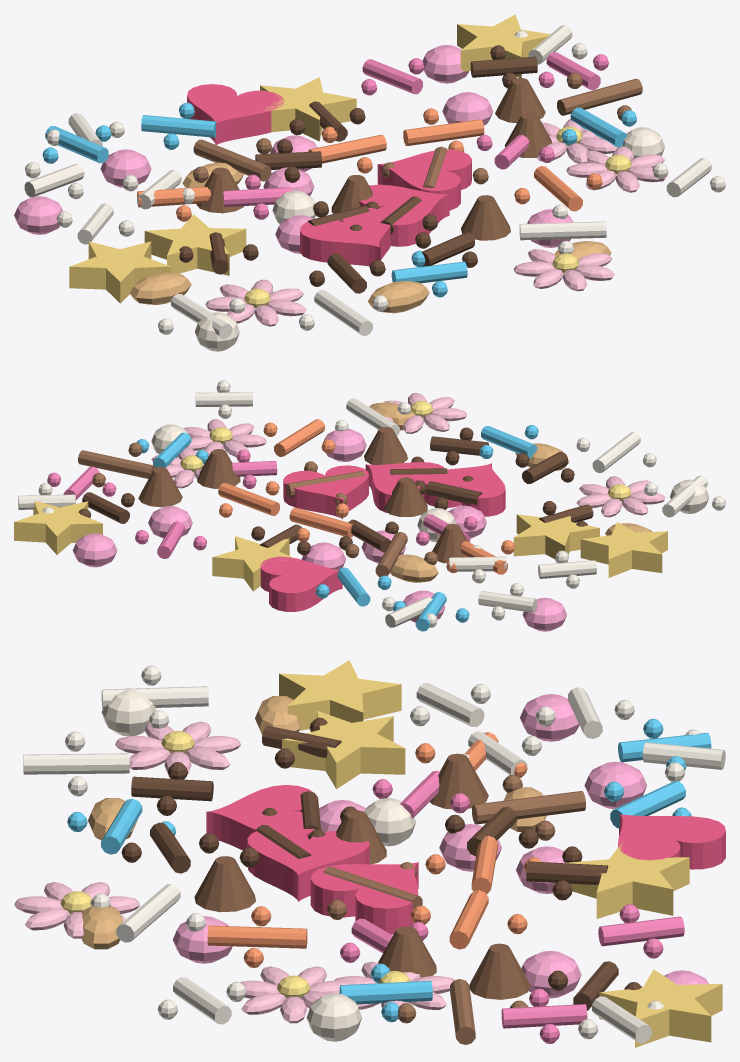
Rendered from toppings_heart_1_tier.glb.
3 views of the same model, one above another, from view 1: azimuth 30°, elevation 25°; view 2: azimuth 150°, elevation 25°; view 3: azimuth 270°, elevation 25° (orthographic). The views are drawn at different scales.
Visible parts, largest first — view 1: ToppingHeart_heart_1_03, ToppingHeart_heart_1_00, ToppingStar_heart_1_02, ToppingStar_heart_1_01, ToppingHeart_heart_1_01, ToppingStar_heart_1_00, ToppingHeart_heart_1_02, ToppingStar_heart_1_03, ToppingChocolateChip_heart_1_03, ToppingSprinkle_heart_1_13_Body, ToppingDot_heart_1_04, ToppingNut_heart_1_02 (+42 smaller); view 2: ToppingHeart_heart_1_03, ToppingStar_heart_1_02, ToppingHeart_heart_1_01, ToppingStar_heart_1_03, ToppingStar_heart_1_01, ToppingHeart_heart_1_00, ToppingStar_heart_1_00, ToppingHeart_heart_1_02, ToppingChocolateChip_heart_1_01, ToppingChocolateChip_heart_1_04, ToppingChocolateChip_heart_1_03, ToppingDot_heart_1_05 (+42 smaller); view 3: ToppingStar_heart_1_01, ToppingStar_heart_1_02, ToppingStar_heart_1_00, ToppingStar_heart_1_03, ToppingHeart_heart_1_01, ToppingHeart_heart_1_03, ToppingHeart_heart_1_02, ToppingHeart_heart_1_00, ToppingChocolateChip_heart_1_03, ToppingChocolateChip_heart_1_01, ToppingSprinkle_heart_1_03_Body, ToppingSprinkle_heart_1_09_Body (+53 smaller).
Boxes of the visible parts, left/top/right/bottom form: ToppingHeart_heart_1_03: left=187, top=84, right=284, bottom=144; ToppingHeart_heart_1_00: left=300, top=208, right=390, bottom=266; ToppingStar_heart_1_02: left=69, top=241, right=170, bottom=303; ToppingStar_heart_1_01: left=144, top=214, right=246, bottom=275; ToppingHeart_heart_1_01: left=377, top=149, right=471, bottom=210; ToppingStar_heart_1_00: left=260, top=77, right=356, bottom=141; ToppingHeart_heart_1_02: left=359, top=184, right=449, bottom=246; ToppingStar_heart_1_03: left=457, top=14, right=550, bottom=77; ToppingChocolateChip_heart_1_03: left=461, top=195, right=510, bottom=240; ToppingSprinkle_heart_1_13_Body: left=519, top=221, right=606, bottom=240; ToppingDot_heart_1_04: left=14, top=196, right=62, bottom=234; ToppingNut_heart_1_02: left=129, top=272, right=191, bottom=304; ToppingHeart_heart_1_03: left=260, top=556, right=342, bottom=611; ToppingStar_heart_1_02: left=580, top=522, right=667, bottom=577; ToppingHeart_heart_1_01: left=283, top=465, right=368, bottom=518; ToppingStar_heart_1_03: left=14, top=501, right=102, bottom=554; ToppingStar_heart_1_01: left=513, top=508, right=599, bottom=559; ToppingHeart_heart_1_00: left=423, top=463, right=505, bottom=516; ToppingStar_heart_1_00: left=212, top=536, right=293, bottom=591; ToppingHeart_heart_1_02: left=365, top=462, right=444, bottom=512; ToppingChocolateChip_heart_1_01: left=138, top=467, right=182, bottom=507; ToppingChocolateChip_heart_1_04: left=384, top=477, right=427, bottom=516; ToppingChocolateChip_heart_1_03: left=364, top=427, right=407, bottom=464; ToppingDot_heart_1_05: left=72, top=533, right=117, bottom=567; ToppingStar_heart_1_01: left=282, top=711, right=405, bottom=789; ToppingStar_heart_1_02: left=279, top=660, right=401, bottom=730; ToppingStar_heart_1_00: left=565, top=843, right=689, bottom=918; ToppingStar_heart_1_03: left=599, top=969, right=722, bottom=1047; ToppingHeart_heart_1_01: left=310, top=862, right=418, bottom=934; ToppingHeart_heart_1_03: left=618, top=814, right=725, bottom=869; ToppingHeart_heart_1_02: left=247, top=827, right=369, bottom=901; ToppingHeart_heart_1_00: left=206, top=785, right=317, bottom=850; ToppingChocolateChip_heart_1_03: left=194, top=856, right=255, bottom=912; ToppingChocolateChip_heart_1_01: left=469, top=943, right=530, bottom=999; ToppingSprinkle_heart_1_03_Body: left=23, top=753, right=129, bottom=774; ToppingSprinkle_heart_1_09_Body: left=472, top=791, right=585, bottom=824.
Size of the model in its own units: 1.21 by 0.0993 by 0.9743.
